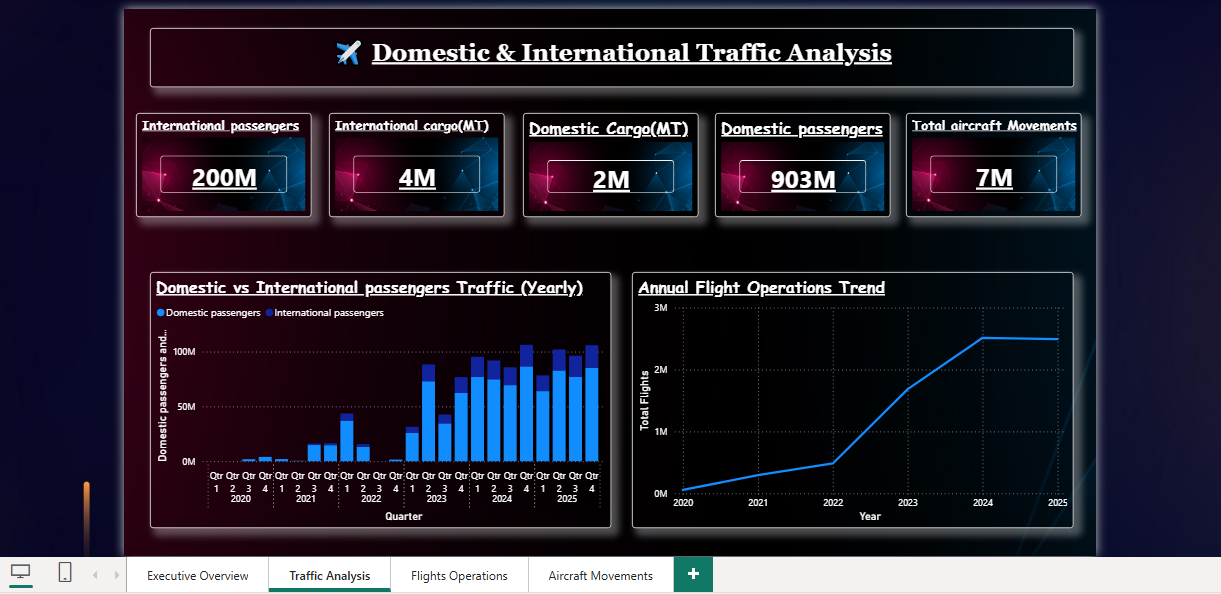

What the dashboard file says about the page in this screenshot:
{"tool":"powerbi","page":{"name":"Traffic Analysis","canvas":[1280,720],"ordinal":1},"visuals":[{"type":"cardVisual","title":"International cargo(MT)","fields":{"Data":["fact daily traffic.International Cargo"]},"box":[269.3,137.5,231,137.5],"z":0},{"type":"cardVisual","title":"International passengers","fields":{"Data":["fact daily traffic.International passengers"]},"box":[15.6,137.5,231,137.5],"z":1000},{"type":"cardVisual","title":"Domestic Cargo(MT)","fields":{"Data":["fact daily traffic.Domestic cargo"]},"box":[524.4,137.5,231,137.5],"z":2000},{"type":"cardVisual","title":"Domestic passengers","fields":{"Data":["fact daily traffic.Domestic passengers"]},"box":[778.1,137.5,231,137.5],"z":3000},{"type":"textbox","box":[34,25.5,1216.1,78],"z":4000},{"type":"columnChart","title":"Domestic vs International passengers Traffic (Yearly)","fields":{"Y":["fact daily traffic.Domestic passengers","fact daily traffic.International passengers"],"Category":["fact daily traffic.Date.Variation.Date Hierarchy.Year","fact daily traffic.Date.Variation.Date Hierarchy.Quarter","fact daily traffic.Date.Variation.Date Hierarchy.Month","fact daily traffic.Date.Variation.Date Hierarchy.Day"]},"box":[34,345.8,606.6,337.3],"z":5000},{"type":"lineChart","title":"Annual Flight Operations Trend","fields":{"Category":["fact daily traffic.Date.Variation.Date Hierarchy.Year","fact daily traffic.Date.Variation.Date Hierarchy.Quarter","fact daily traffic.Date.Variation.Date Hierarchy.Month","fact daily traffic.Date.Variation.Date Hierarchy.Day"],"Y":["fact daily traffic.Total Flights"]},"box":[669,345.8,581.1,337.3],"z":6000},{"type":"cardVisual","title":"Total aircraft Movements","fields":{"Data":["fact daily traffic.Total Aircraft Movement"]},"box":[1029,137.5,231,137.5],"z":7000}]}

Visuals, with their boxes on the page's 1280x720 design canvas (x1, y1, x2, y2). These are canvas units, not pixel positions in the 1221x594 screenshot, which may show the page scaled, cropped or inside an application window:
"International cargo(MT)" cardVisual: <bbox>269, 138, 500, 275</bbox>
"International passengers" cardVisual: <bbox>16, 138, 247, 275</bbox>
"Domestic Cargo(MT)" cardVisual: <bbox>524, 138, 755, 275</bbox>
"Domestic passengers" cardVisual: <bbox>778, 138, 1009, 275</bbox>
textbox: <bbox>34, 26, 1250, 104</bbox>
"Domestic vs International passengers Traffic (Yearly)" columnChart: <bbox>34, 346, 641, 683</bbox>
"Annual Flight Operations Trend" lineChart: <bbox>669, 346, 1250, 683</bbox>
"Total aircraft Movements" cardVisual: <bbox>1029, 138, 1260, 275</bbox>
